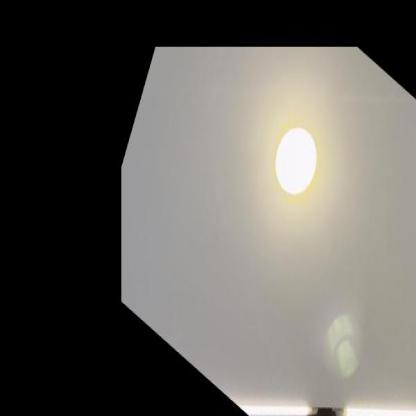light_on: (335, 294, 415, 415), (262, 96, 332, 229), (229, 334, 326, 414)
